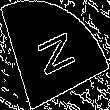N_W: (30, 26, 80, 84)
